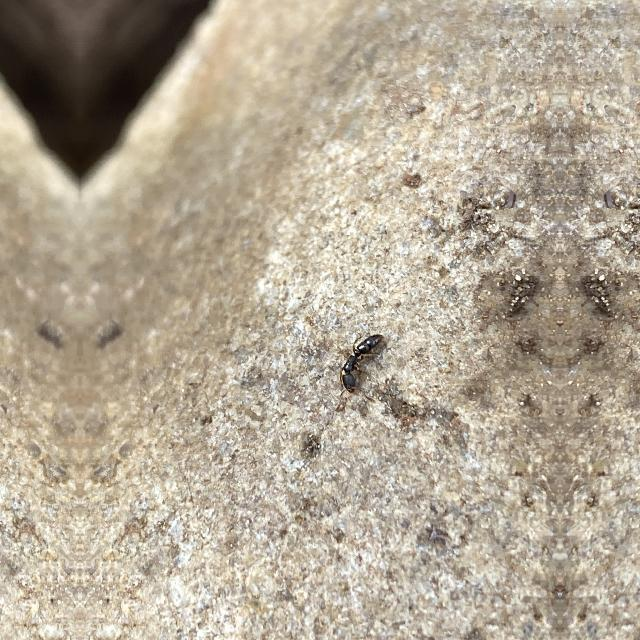Ponera: (330, 322, 398, 402)
